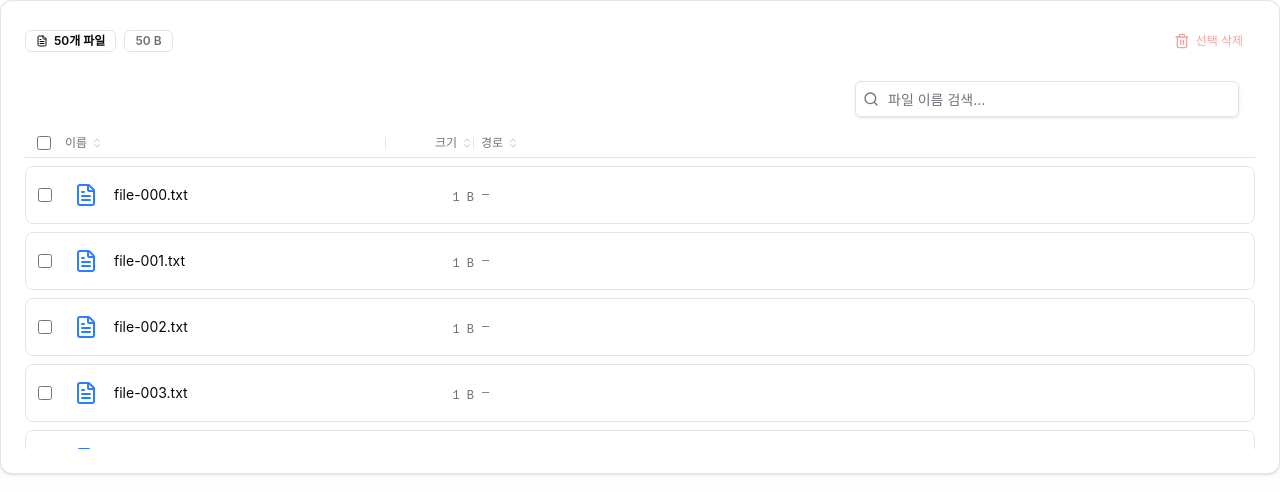
Test case: FileList — search/filter at ≥50 files › shows a "검색 활성" badge when the search input has a value
The width and height of the screenshot is (1280, 492).
In the field with placeholder "파일 이름 검색…": x=1047, y=99 [855,81,1239,117], type "foo"
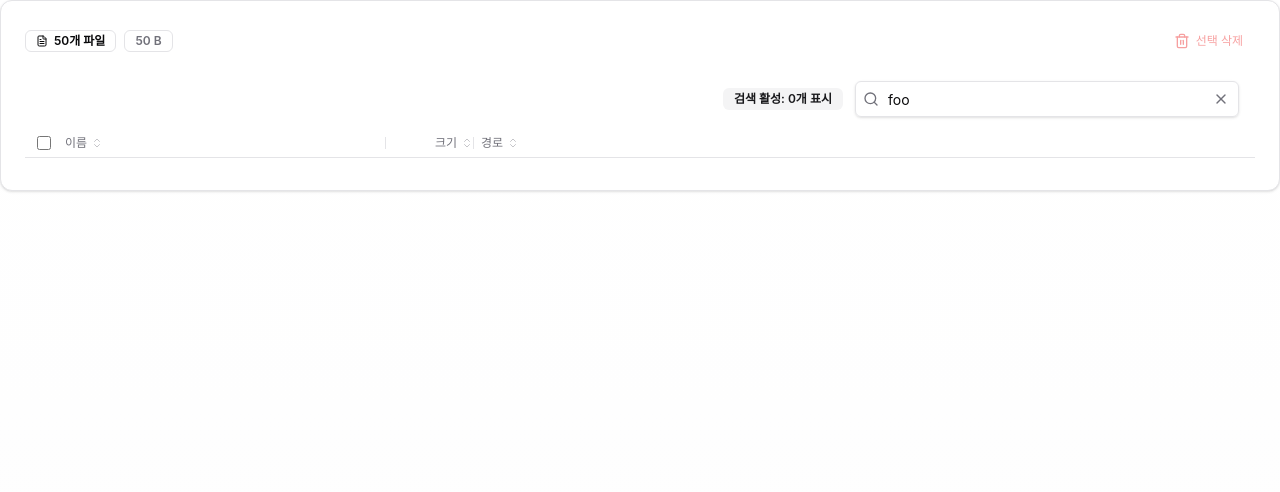
Expected: the text "검색 활성: 0개 표시" is shown, [723,88,843,110]
